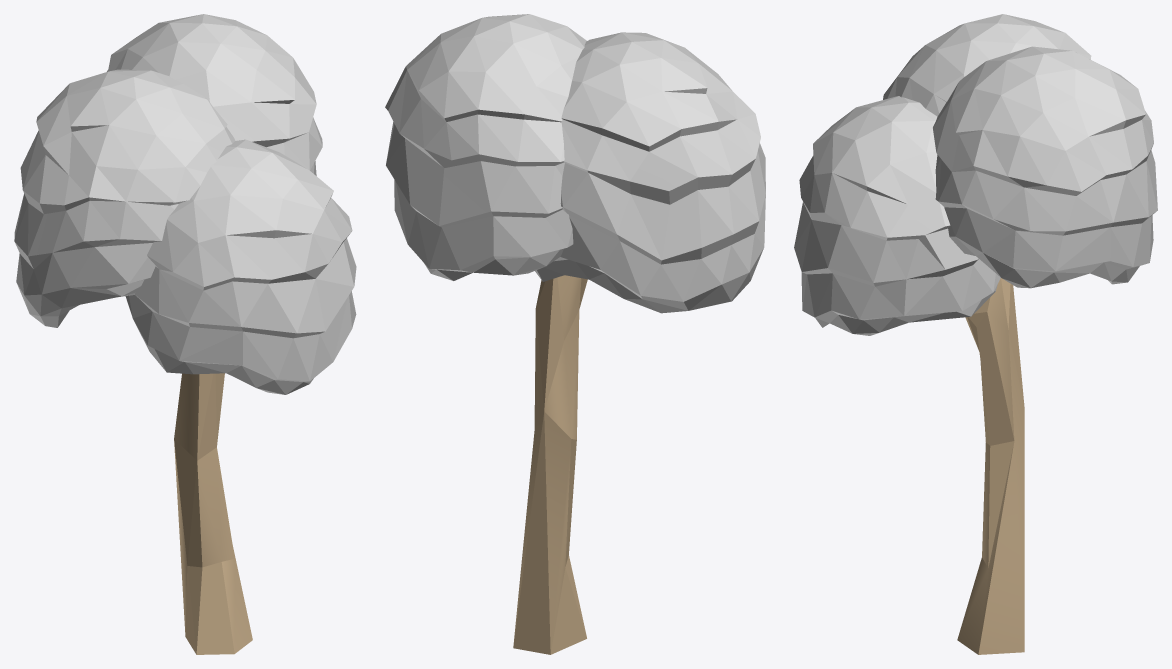
Rendered from SnowbigtoothB.fbx.
3 renders of one model, left to right at view 1: azimuth 30°, elevation 25°; view 2: azimuth 150°, elevation 25°; view 3: azimuth 270°, elevation 25°, orthographic. The views are drawn at different scales.
Parts seen in each view (by area): view 1: Icosphere.004, trunk.004; view 2: Icosphere.004, trunk.004; view 3: Icosphere.004, trunk.004.
Part boxes in pixels (x1,y1,x2,y2): Icosphere.004: [14, 14, 356, 394]; trunk.004: [174, 373, 252, 654]; Icosphere.004: [385, 14, 765, 313]; trunk.004: [513, 275, 587, 654]; Icosphere.004: [794, 14, 1157, 335]; trunk.004: [957, 278, 1024, 654].
Size of the model in its own units: 427 by 797 by 441.
